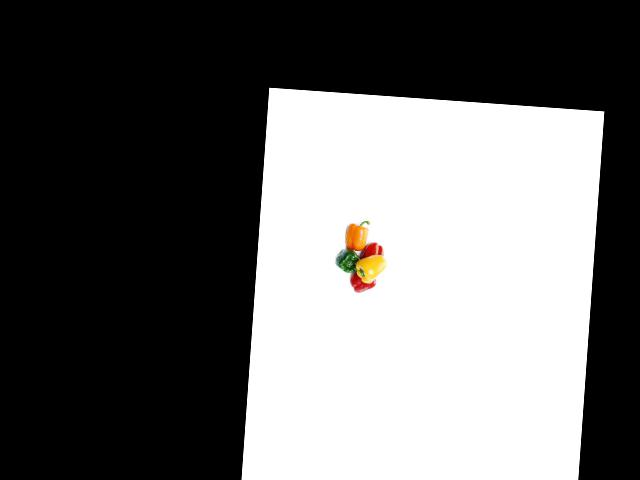bell_pepper: (330, 246, 366, 279)
